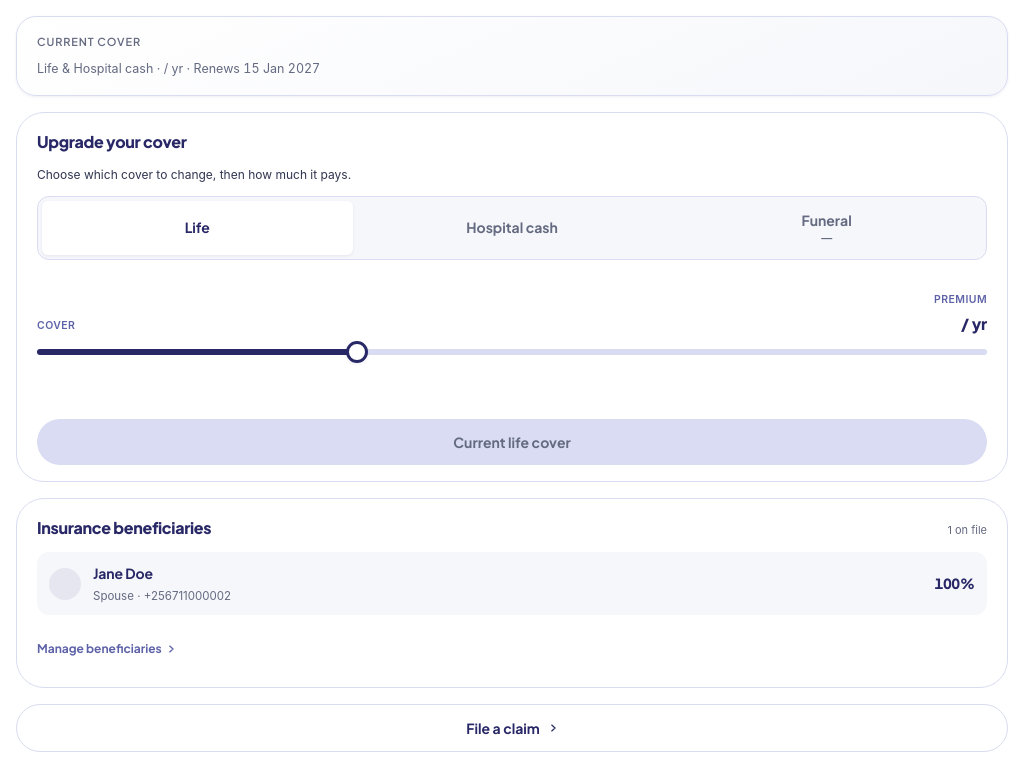
Scenario: InsurancePage › non-adjustable policies › shows employer-funded cover read-only, with no picker
Check: the element named "Life cover amount" is shown, box [37,349,987,407]
Health is employer-paid — the RPC rejects a re-buy, so offer nothing.
Click the radio button labelled "Hospital cash": (512, 228) [357,201,667,255]
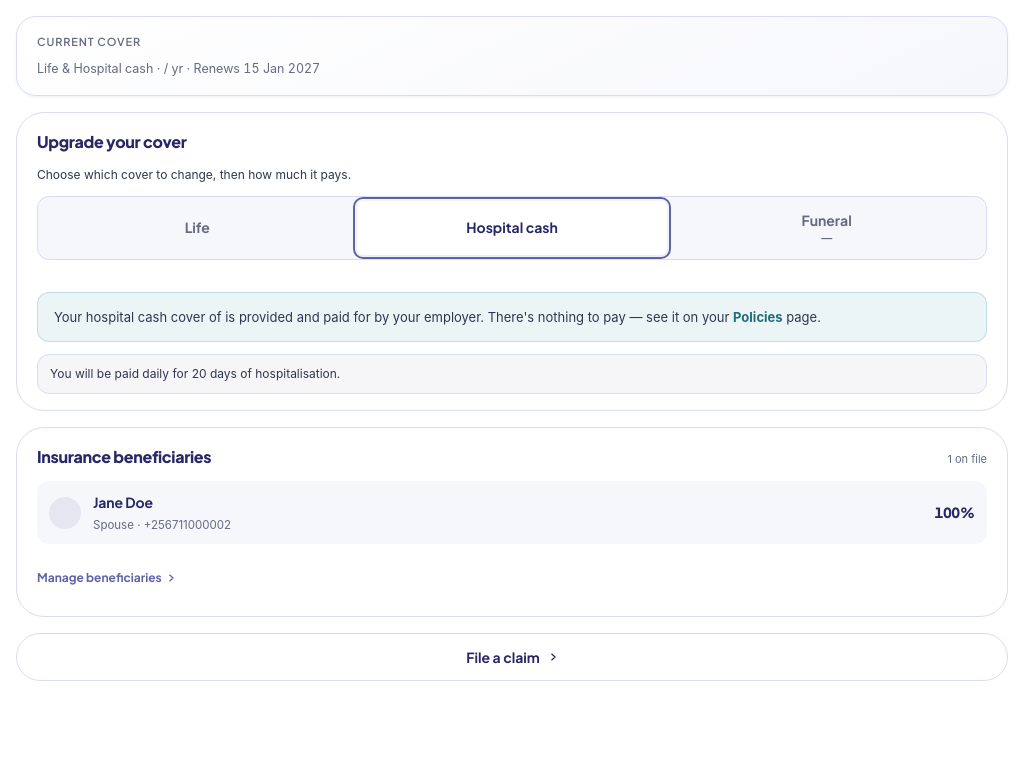
Check: the text "paid for by your employer" is shown, box [225,309,733,325]
